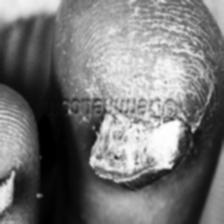Toxin: (82, 110, 206, 208), (0, 161, 20, 224)
